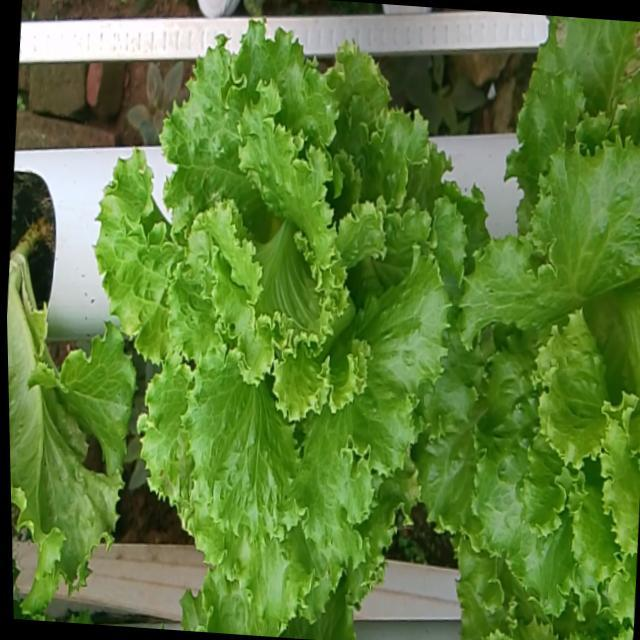Mature: (106, 11, 476, 606), (427, 120, 640, 602)
